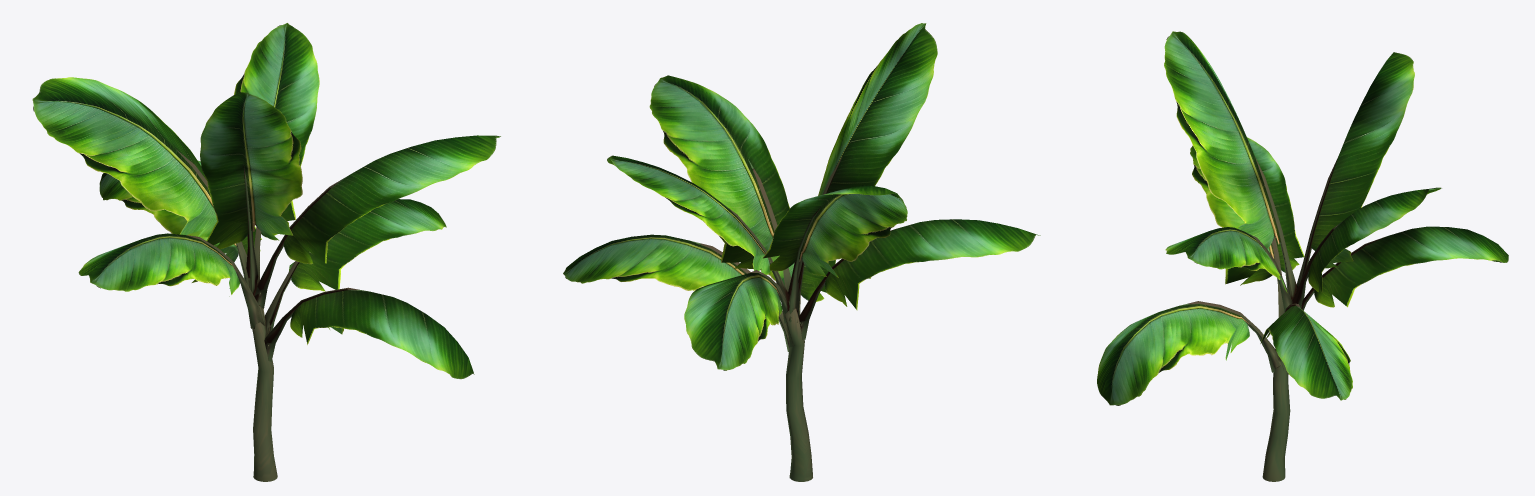
The model's file is tree5.fbx.
3 renders of one model, left to right at view 1: azimuth 30°, elevation 25°; view 2: azimuth 150°, elevation 25°; view 3: azimuth 270°, elevation 25°, orthographic. The views are drawn at different scales.
Visible parts, largest first — view 1: SM_MZRa_Banana_B092; view 2: SM_MZRa_Banana_B092; view 3: SM_MZRa_Banana_B092.
Part boxes in pixels (x1,y1,x2,y2): SM_MZRa_Banana_B092: [32, 23, 500, 481]; SM_MZRa_Banana_B092: [563, 23, 1040, 481]; SM_MZRa_Banana_B092: [1097, 31, 1508, 481].
Bounding box in the file's own units: 292 × 277 × 261.
